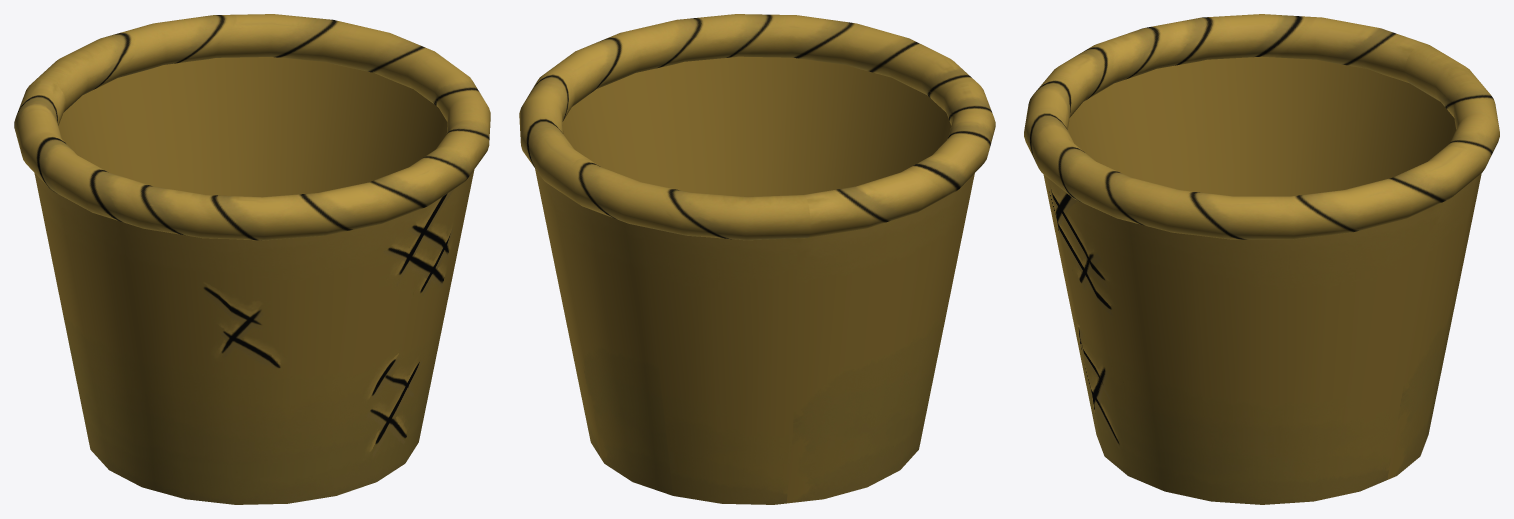
The model's file is basket.fbx.
3 renders of one model, left to right at view 1: azimuth 30°, elevation 25°; view 2: azimuth 150°, elevation 25°; view 3: azimuth 270°, elevation 25°, orthographic.
Parts seen in each view (by area): view 1: polySurface1, pTorus1; view 2: polySurface1, pTorus1; view 3: polySurface1, pTorus1.
Part boxes in pixels (box(x1,y1,x2,y2)): polySurface1: box(34, 57, 474, 504); pTorus1: box(14, 14, 490, 240); polySurface1: box(535, 56, 974, 504); pTorus1: box(519, 14, 995, 240); polySurface1: box(1043, 56, 1481, 504); pTorus1: box(1024, 14, 1499, 239).
Size of the model in its own units: 2.86 by 2.17 by 2.86.
Materials: 2 (2 with a texture image).
